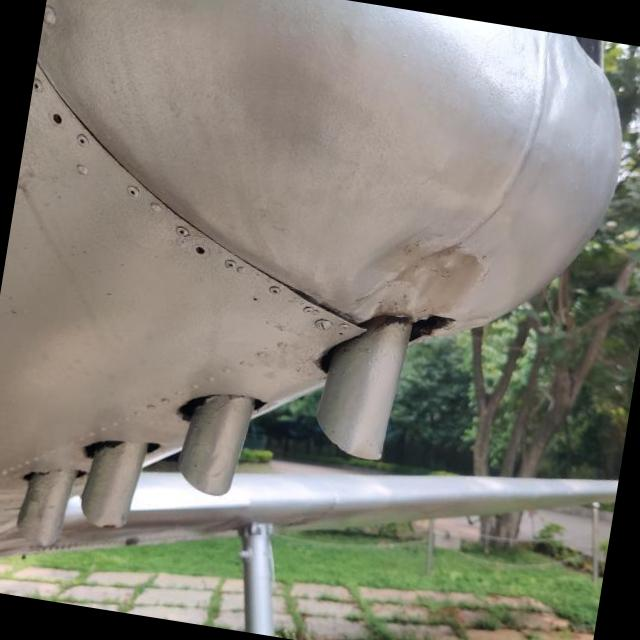Dent: (332, 228, 492, 323)
